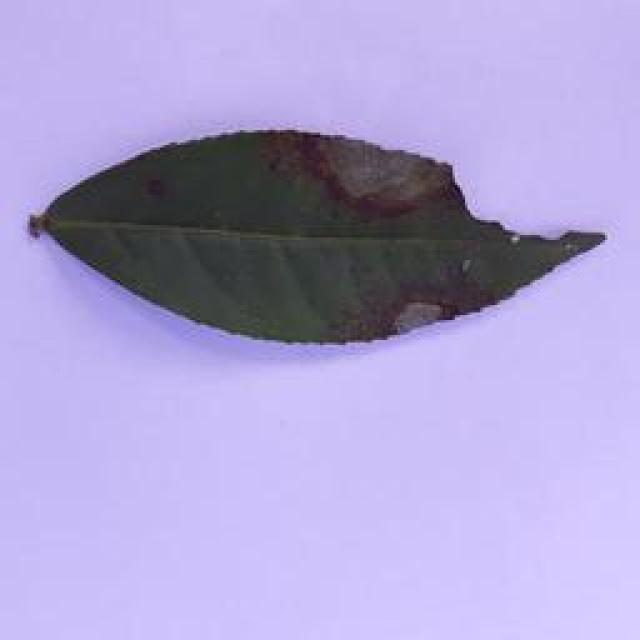Gray Blight: (22, 121, 612, 353)
